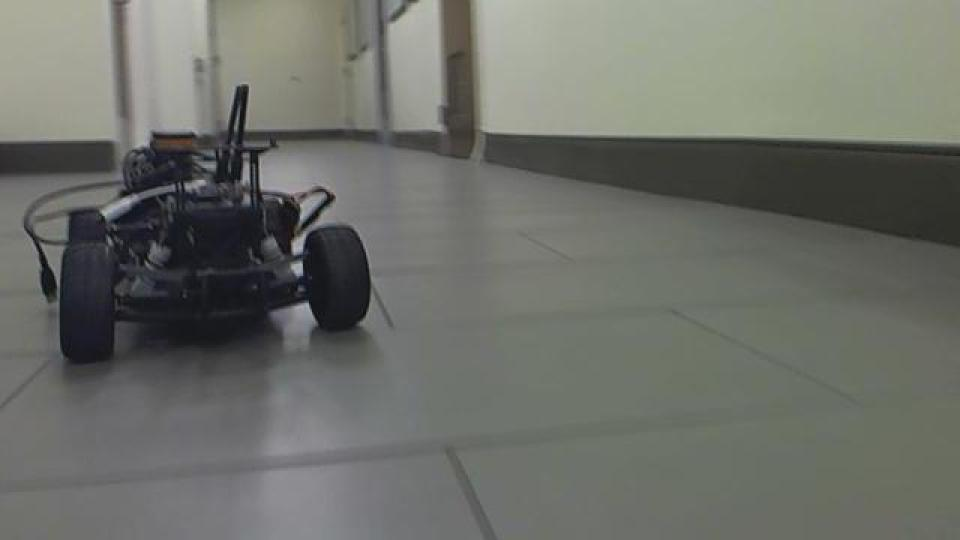car: (19, 81, 376, 366)
